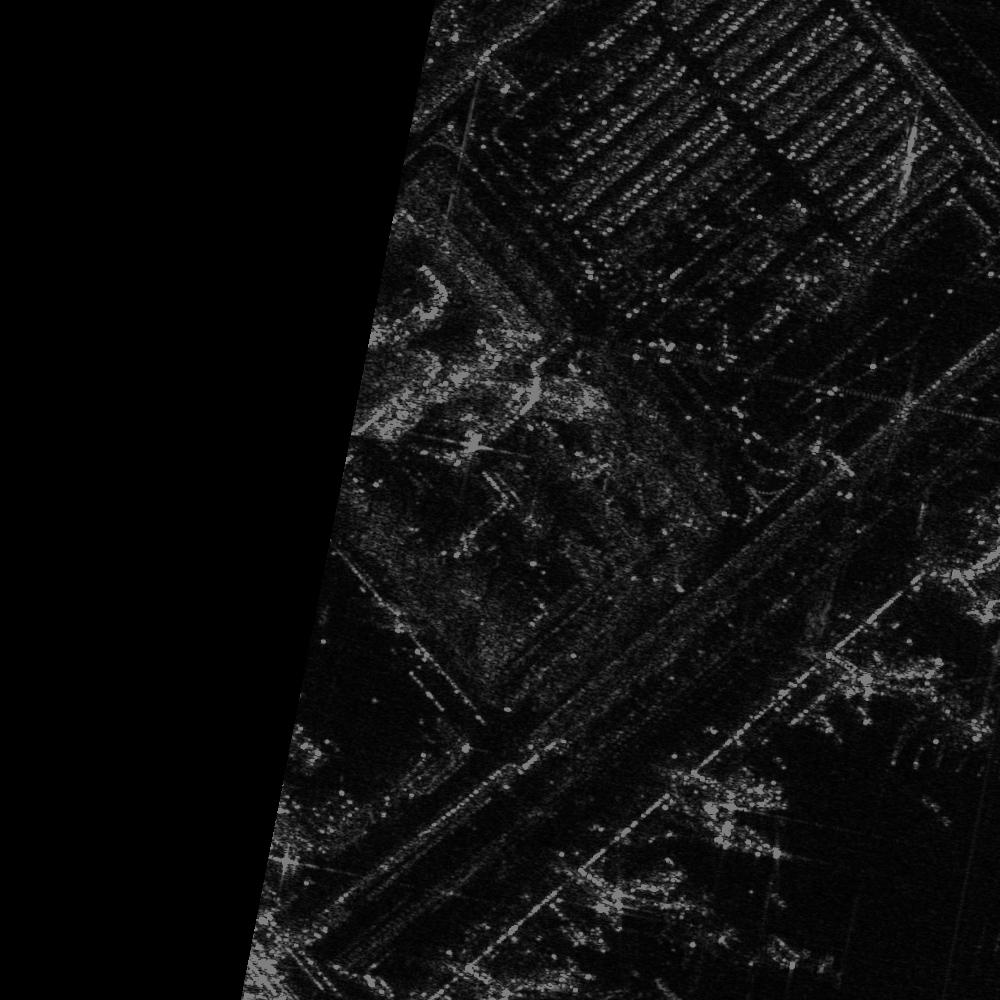Boeing737: (885, 675, 999, 786)
